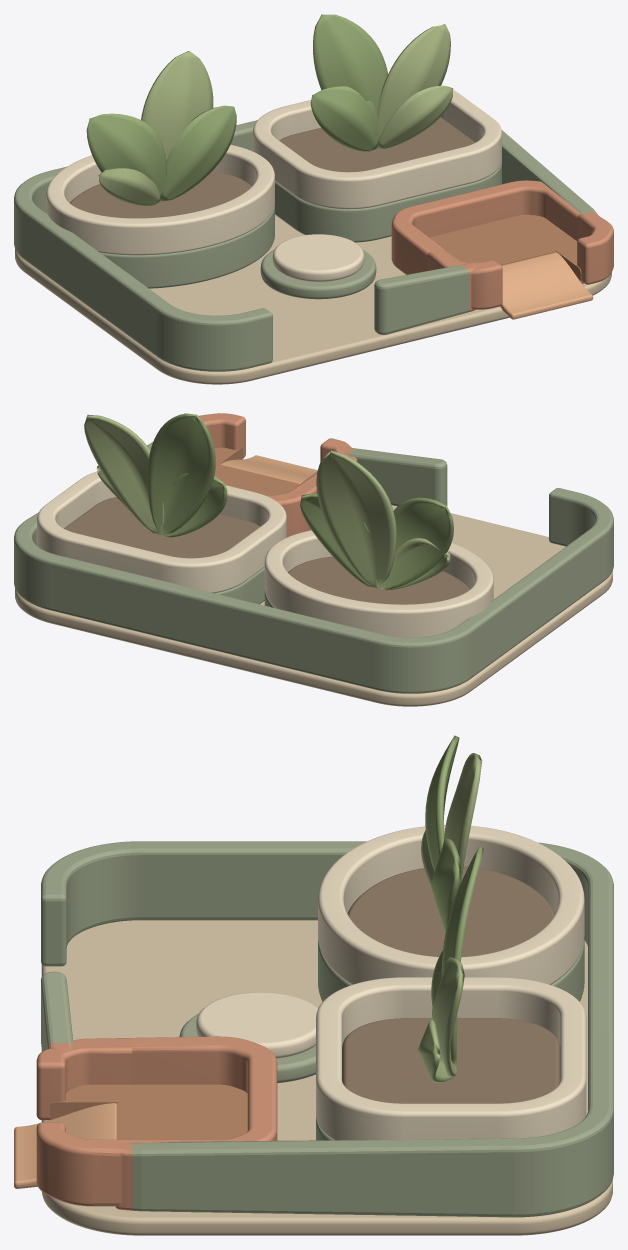
Rendered from building_food_workshop_dispatch_v5.glb.
The picture shows the model from 3 angles, top to bottom: view 1: azimuth 30°, elevation 25°; view 2: azimuth 150°, elevation 25°; view 3: azimuth 270°, elevation 25°; orthographic projection. The views are drawn at different scales.
Parts seen in each view (by area): view 1: Integrated green perimeter and terracotta dispatch wall, Single broad rounded platform, Right squared grow basin cream upper wall, Left oval grow basin cream upper wall, Left oval grow basin green foundation, Trough recessed bed, Right squared grow basin green foundation, Right broad leaf 1, Right squared grow basin recessed soil, Left broad leaf 2, Wide smoothly blended exit ramp, Left broad leaf 3 (+8 smaller); view 2: Integrated green perimeter and terracotta dispatch wall, Single broad rounded platform, Right squared grow basin cream upper wall, Left oval grow basin cream upper wall, Left broad leaf 2, Right broad leaf 1, Right squared grow basin recessed soil, Right broad leaf 2, Left oval grow basin recessed soil, Left broad leaf 1, Trough recessed bed, Left broad leaf 3 (+4 smaller); view 3: Integrated green perimeter and terracotta dispatch wall, Single broad rounded platform, Right squared grow basin cream upper wall, Left oval grow basin cream upper wall, Right squared grow basin recessed soil, Left oval grow basin recessed soil, Trough recessed bed, Central cream upper disc, Wide smoothly blended exit ramp, Left broad leaf 2, Right broad leaf 2, Right broad leaf 1 (+5 smaller).
Part boxes in pixels (bbox=[...]): Integrated green perimeter and terracotta dispatch wall: bbox=[14, 120, 613, 371]; Single broad rounded platform: bbox=[15, 215, 611, 384]; Right squared grow basin cream upper wall: bbox=[253, 85, 501, 209]; Left oval grow basin cream upper wall: bbox=[46, 144, 274, 255]; Left oval grow basin green foundation: bbox=[100, 204, 274, 288]; Trough recessed bed: bbox=[429, 214, 583, 283]; Right squared grow basin green foundation: bbox=[275, 161, 501, 242]; Right broad leaf 1: bbox=[313, 14, 387, 113]; Right squared grow basin recessed soil: bbox=[279, 117, 474, 172]; Left broad leaf 2: bbox=[141, 51, 213, 160]; Wide smoothly blended exit ramp: bbox=[500, 252, 593, 319]; Left broad leaf 3: bbox=[160, 105, 236, 201]; Integrated green perimeter and terracotta dispatch wall: bbox=[14, 413, 613, 693]; Single broad rounded platform: bbox=[15, 505, 612, 706]; Right squared grow basin cream upper wall: bbox=[37, 471, 286, 593]; Left oval grow basin cream upper wall: bbox=[264, 530, 493, 637]; Left broad leaf 2: bbox=[316, 450, 396, 588]; Right broad leaf 1: bbox=[147, 413, 215, 535]; Right squared grow basin recessed soil: bbox=[64, 497, 260, 558]; Right broad leaf 2: bbox=[84, 414, 164, 535]; Left oval grow basin recessed soil: bbox=[288, 556, 470, 604]; Left broad leaf 1: bbox=[378, 497, 453, 589]; Trough recessed bed: bbox=[214, 447, 317, 495]; Left broad leaf 3: bbox=[300, 493, 376, 588]; Integrated green perimeter and terracotta dispatch wall: bbox=[36, 841, 613, 1217]; Single broad rounded platform: bbox=[41, 920, 612, 1235]; Right squared grow basin cream upper wall: bbox=[316, 977, 586, 1140]; Left oval grow basin cream upper wall: bbox=[318, 825, 584, 984]; Right squared grow basin recessed soil: bbox=[342, 1018, 560, 1103]; Left oval grow basin recessed soil: bbox=[347, 866, 554, 956]; Trough recessed bed: bbox=[50, 1084, 247, 1139]; Central cream upper disc: bbox=[196, 992, 317, 1058]; Wide smoothly blended exit ramp: bbox=[14, 1103, 116, 1188]; Left broad leaf 2: bbox=[443, 753, 482, 890]; Right broad leaf 2: bbox=[432, 957, 464, 1076]; Right broad leaf 1: bbox=[441, 846, 483, 1069].
Bounding box in the file's own units: 8.42 × 3.58 × 6.93.
